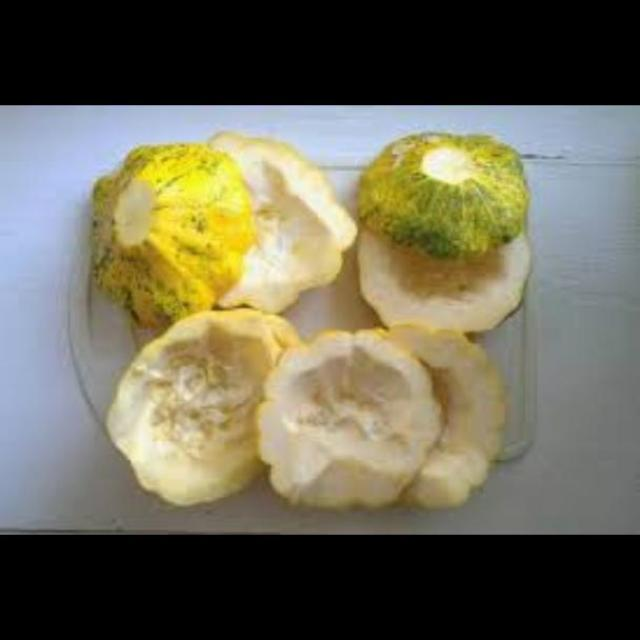squash-patisson: (90, 296, 284, 512), (175, 124, 356, 323), (80, 136, 248, 344), (254, 320, 432, 516), (348, 208, 534, 338), (358, 126, 539, 253), (391, 314, 504, 510)
